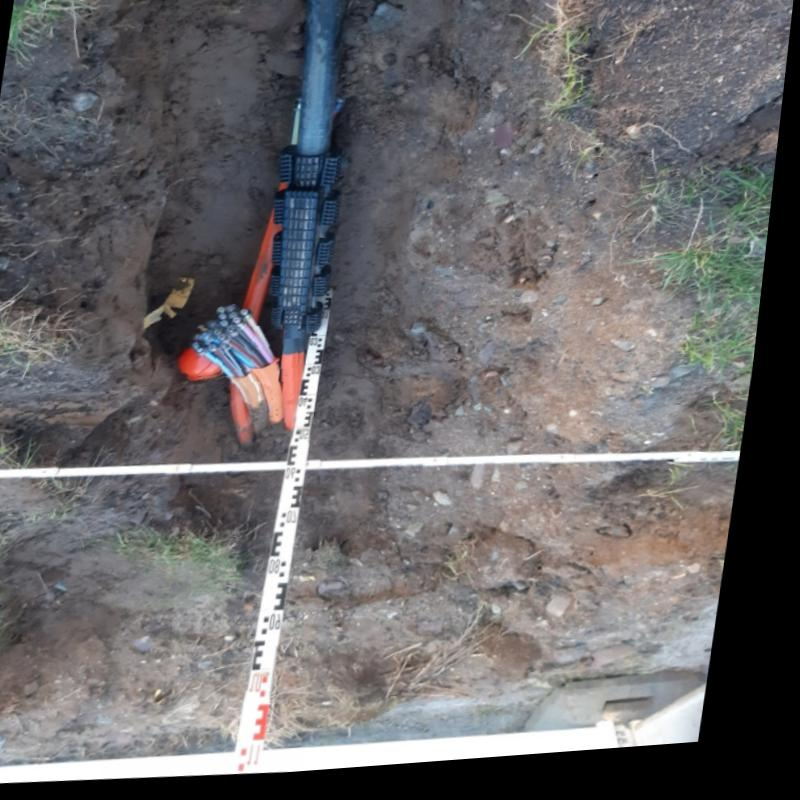Kugelmarker: (187, 352, 230, 381)
Orang-Speednetrohrchen: (215, 307, 295, 423), (196, 331, 281, 430), (237, 387, 263, 453), (290, 344, 308, 434)
